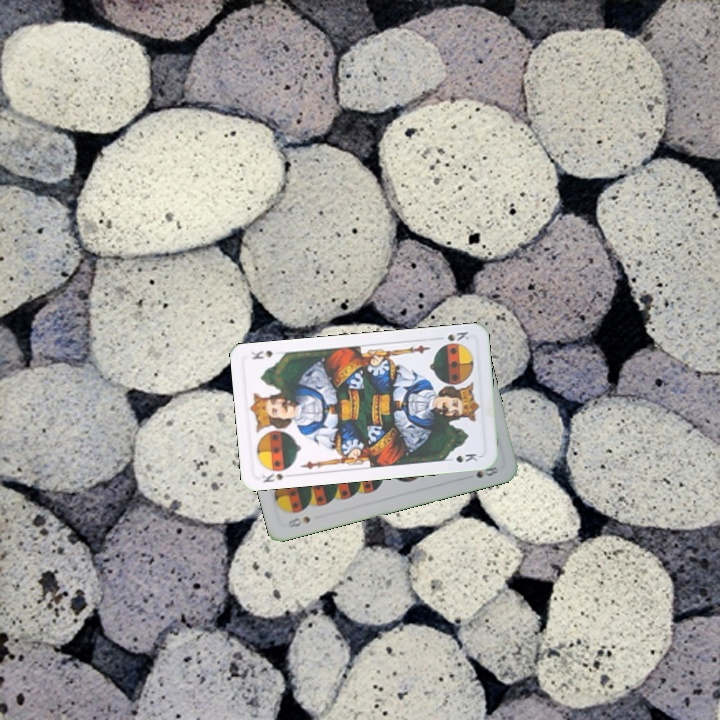S8: (283, 512, 313, 530)
SK: (255, 463, 296, 485), (443, 328, 472, 344)
